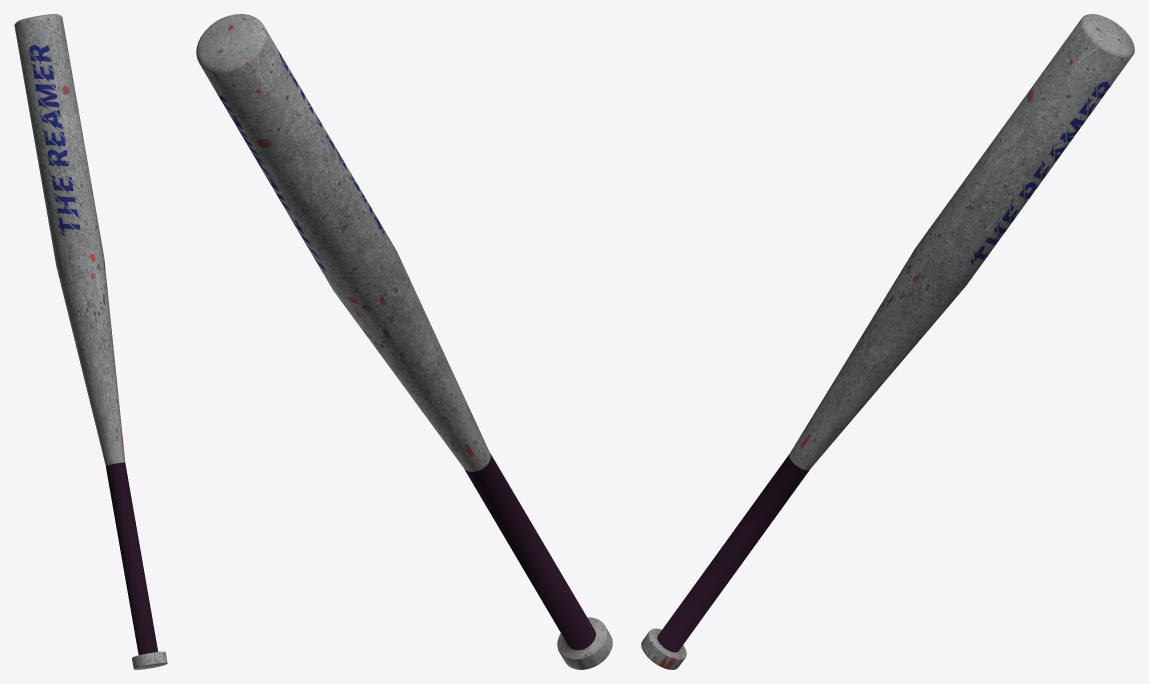
File: the reamer.fbx
3 renders of one model, left to right at view 1: azimuth 30°, elevation 25°; view 2: azimuth 150°, elevation 25°; view 3: azimuth 270°, elevation 25°, orthographic. The views are drawn at different scales.
Parts seen in each view (by area): view 1: The reamer; view 2: The reamer; view 3: The reamer.
Boxes of the visible parts, <box> form: The reamer: <box>14,14,167,669</box>; The reamer: <box>196,14,612,669</box>; The reamer: <box>641,14,1134,669</box>.
Size of the model in its own units: 105 by 554 by 362.
Materials: 2 (1 with a texture image).
